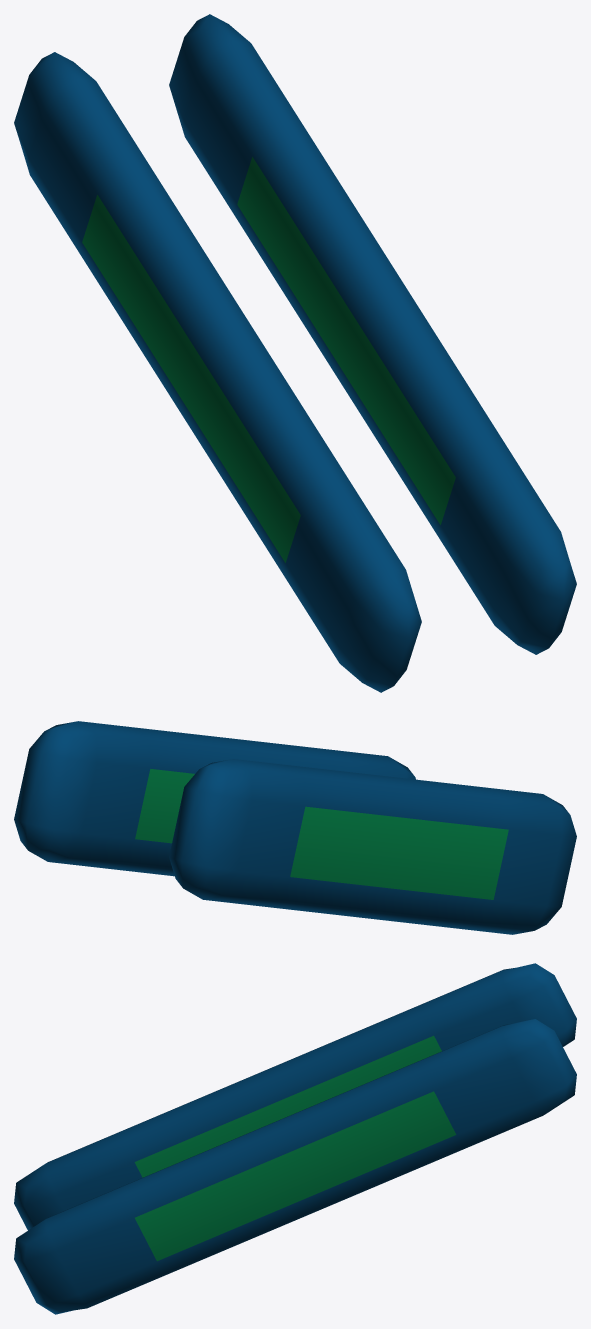
File: partie 2 du bras.FBX
3 renders of one model, top to bottom at view 1: azimuth 30°, elevation 25°; view 2: azimuth 150°, elevation 25°; view 3: azimuth 270°, elevation 25°, orthographic. The views are drawn at different scales.
Parts seen in each view (by area): view 1: Bras mécanique 001; view 2: Bras mécanique 001; view 3: Bras mécanique 001.
Boxes of the visible parts, x1,y1,x2,y2 form: Bras mécanique 001: (14, 14, 576, 692); Bras mécanique 001: (14, 721, 576, 934); Bras mécanique 001: (14, 963, 576, 1314).
Size of the model in its own units: 70.24 by 130 by 224.
